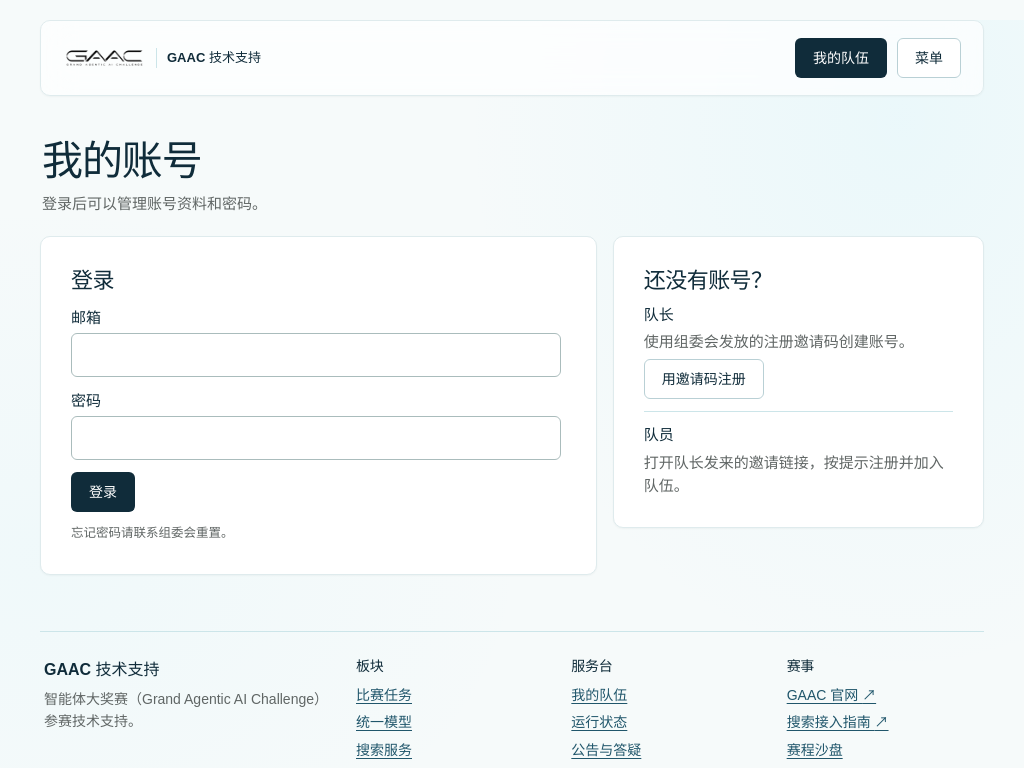
preserves /account/ after inline login
This screenshot has width=1024, height=768.
Check: the element "登录" is shown, box 40,236 -> 597,574
In the field labelled "邮箱": [316, 355] box 71,333 -> 561,377, type "captain@example.test"
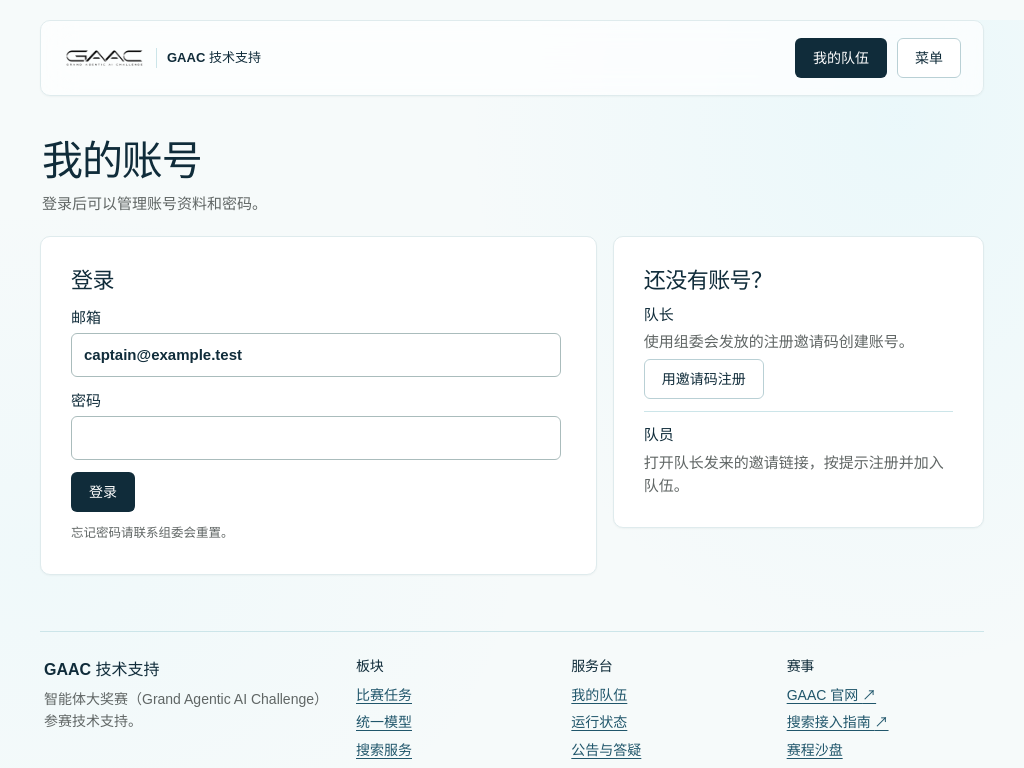
In the password field labelled "密码": [316, 438] box 71,416 -> 561,460, type "demo-password-2026"
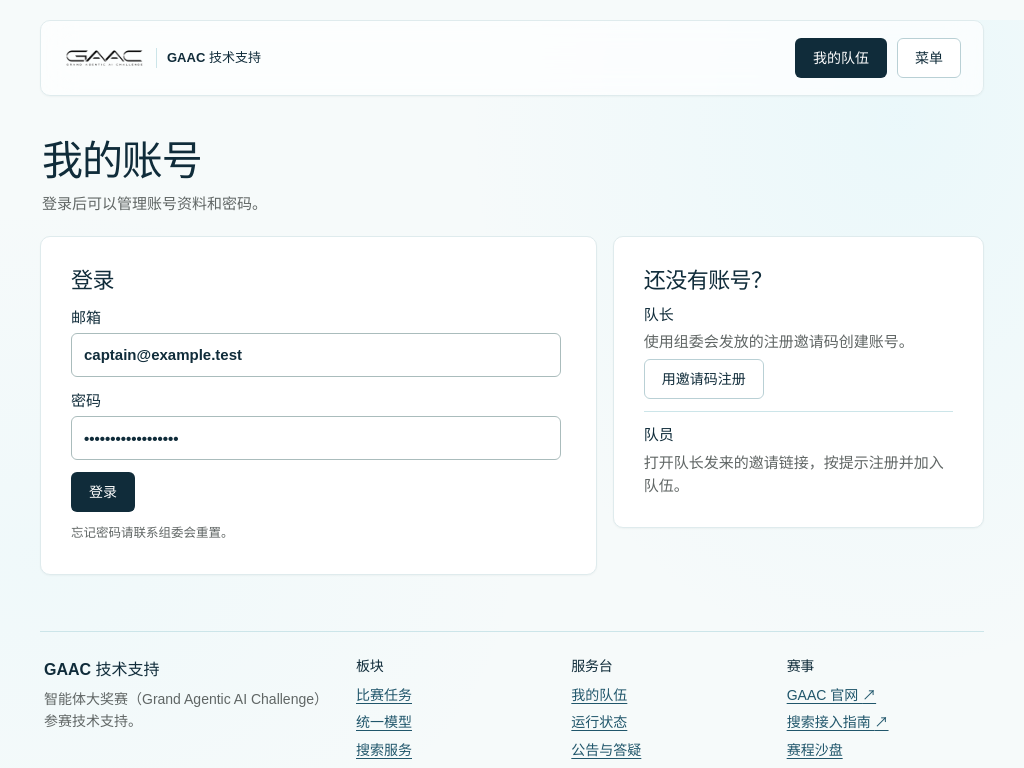
Click the button "登录": [103, 492] box 71,472 -> 135,512
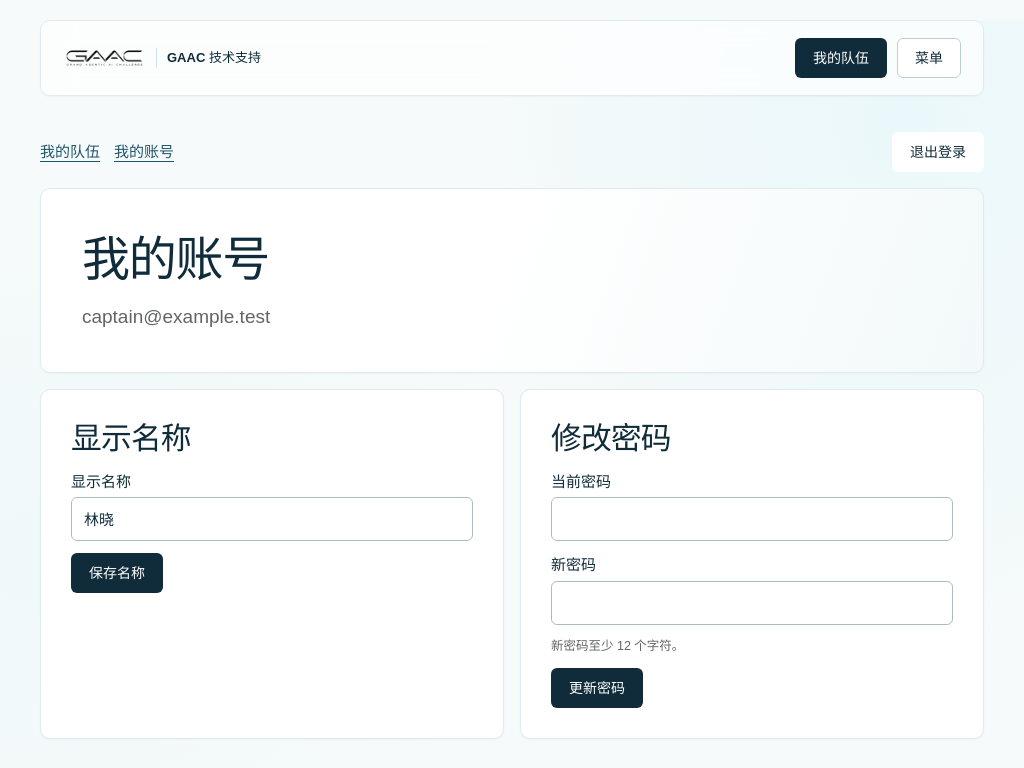
Check: the heading "修改密码" is shown, box 551,421 -> 671,456
